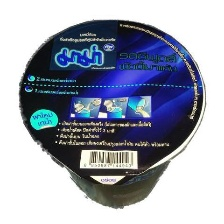paper_cup: (10, 13, 210, 213)
